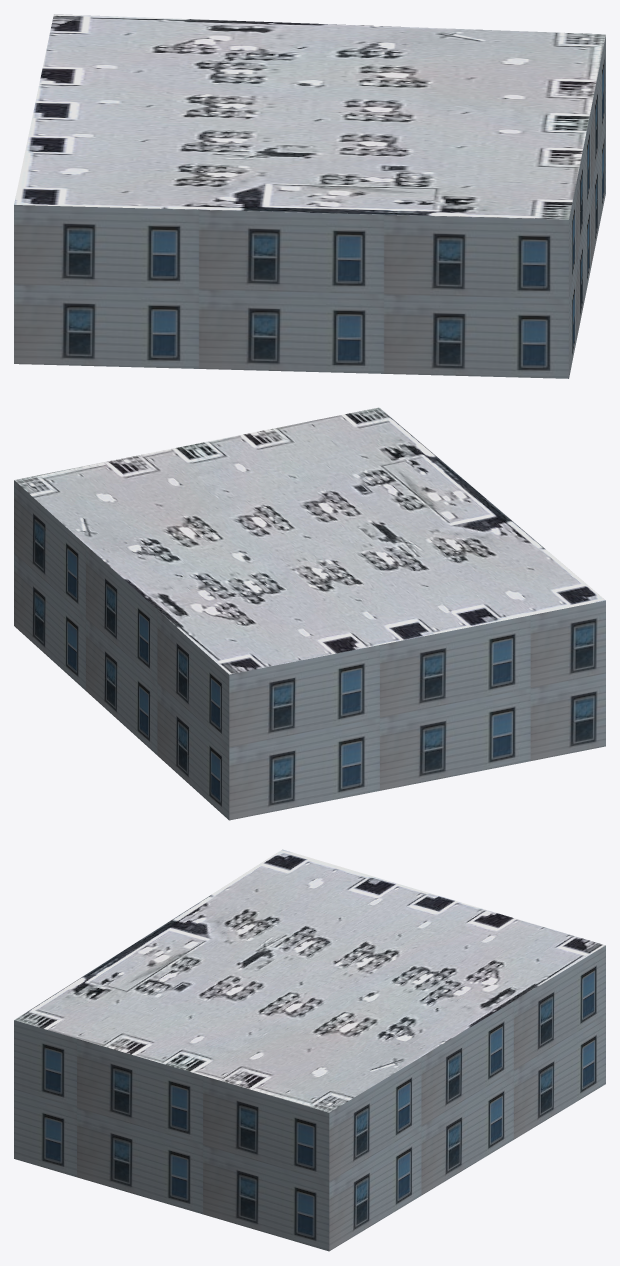
File: ResTex__677.fbx
3 renders of one model, top to bottom at view 1: azimuth 30°, elevation 25°; view 2: azimuth 150°, elevation 25°; view 3: azimuth 270°, elevation 25°, orthographic. The views are drawn at different scales.
Parts seen in each view (by area): view 1: CityEngineMaterial_m, CityEngineMaterial_18_m; view 2: CityEngineMaterial_m, CityEngineMaterial_18_m; view 3: CityEngineMaterial_18_m, CityEngineMaterial_m.
Boxes of the visible parts, <box> form: CityEngineMaterial_m: <box>14,14,605,219</box>; CityEngineMaterial_18_m: <box>14,35,605,378</box>; CityEngineMaterial_m: <box>14,407,605,674</box>; CityEngineMaterial_18_m: <box>14,480,605,820</box>; CityEngineMaterial_18_m: <box>14,945,605,1251</box>; CityEngineMaterial_m: <box>14,849,605,1112</box>.
Bounding box in the file's own units: 24.42 × 6 × 23.21.
2 materials, 2 textured.
